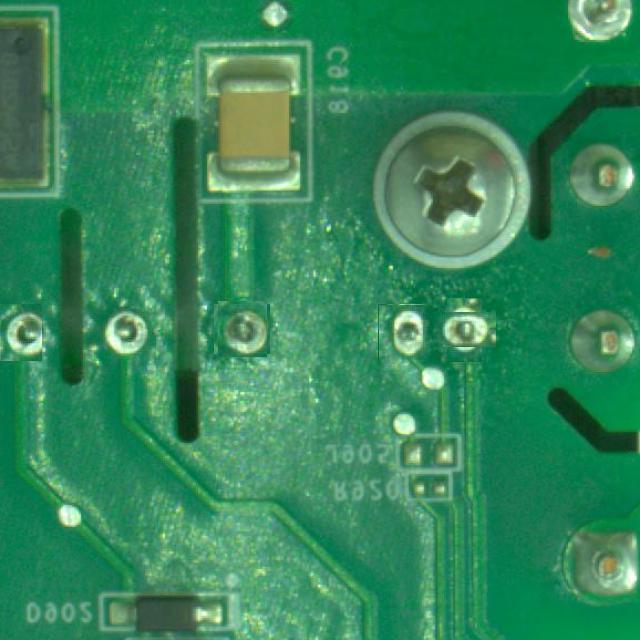lack_of_part: (378, 304, 430, 364), (216, 302, 268, 356), (440, 305, 489, 355), (0, 304, 42, 361), (108, 308, 148, 358)
